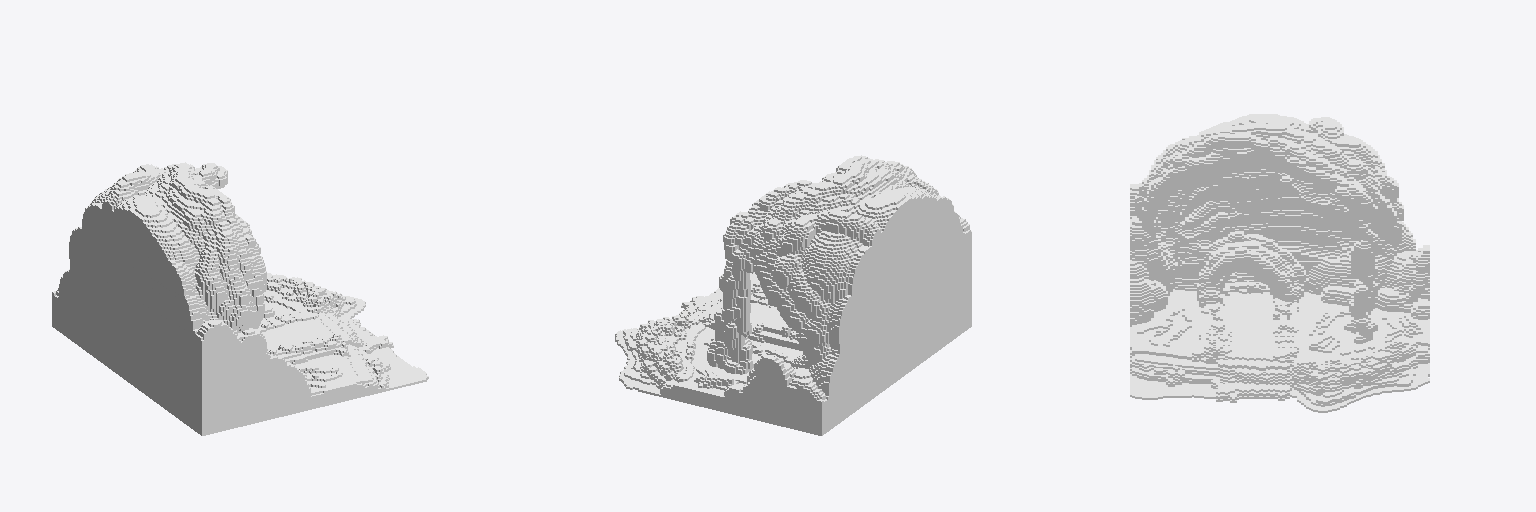
File: Border8.obj
3 views of the same model, side by side, from view 1: azimuth 30°, elevation 25°; view 2: azimuth 150°, elevation 25°; view 3: azimuth 270°, elevation 25° (orthographic).
Bounding box in the file's own units: 125 × 87 × 126.